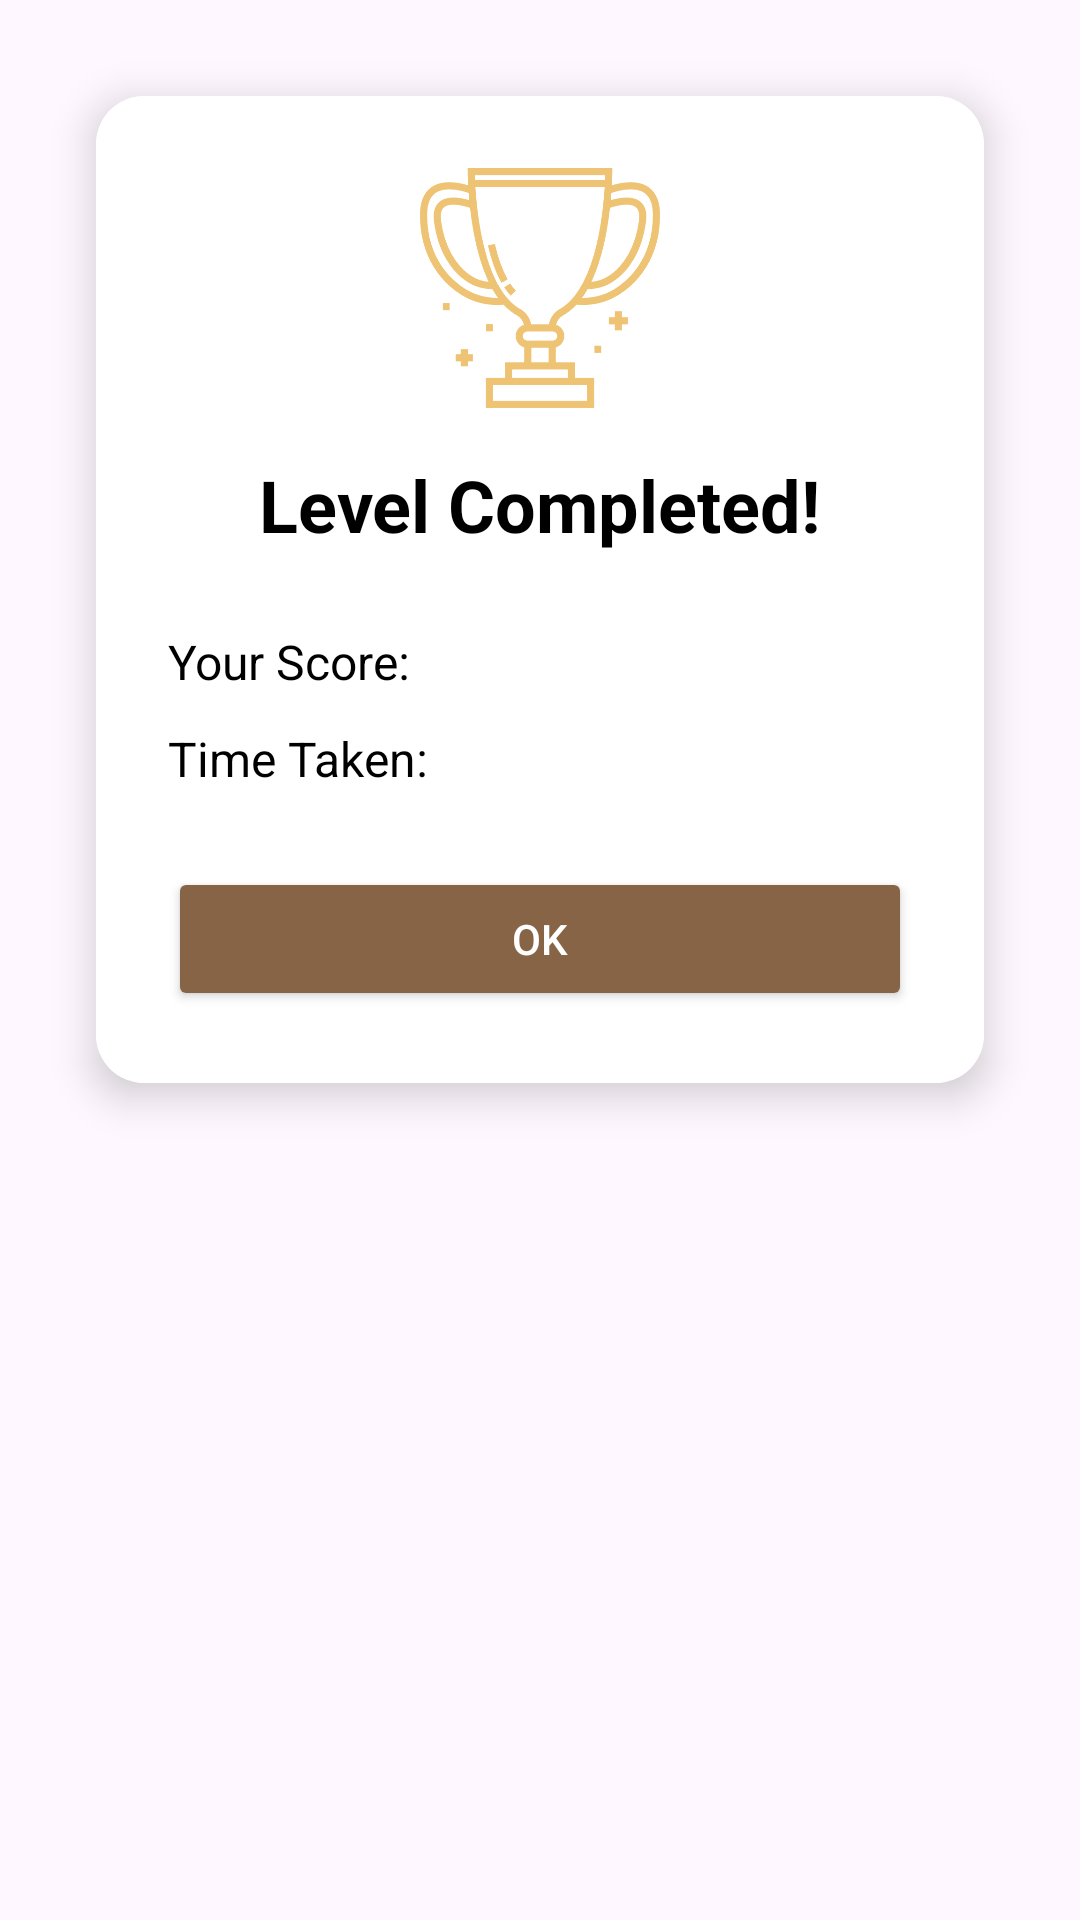

Locate icon controls on the screen. Image size 1080×1920, boxes as {"left": x1, "top": y1, "right": x2, "bottom": y2}.
trophy: {"left": 420, "top": 168, "right": 660, "bottom": 408}
